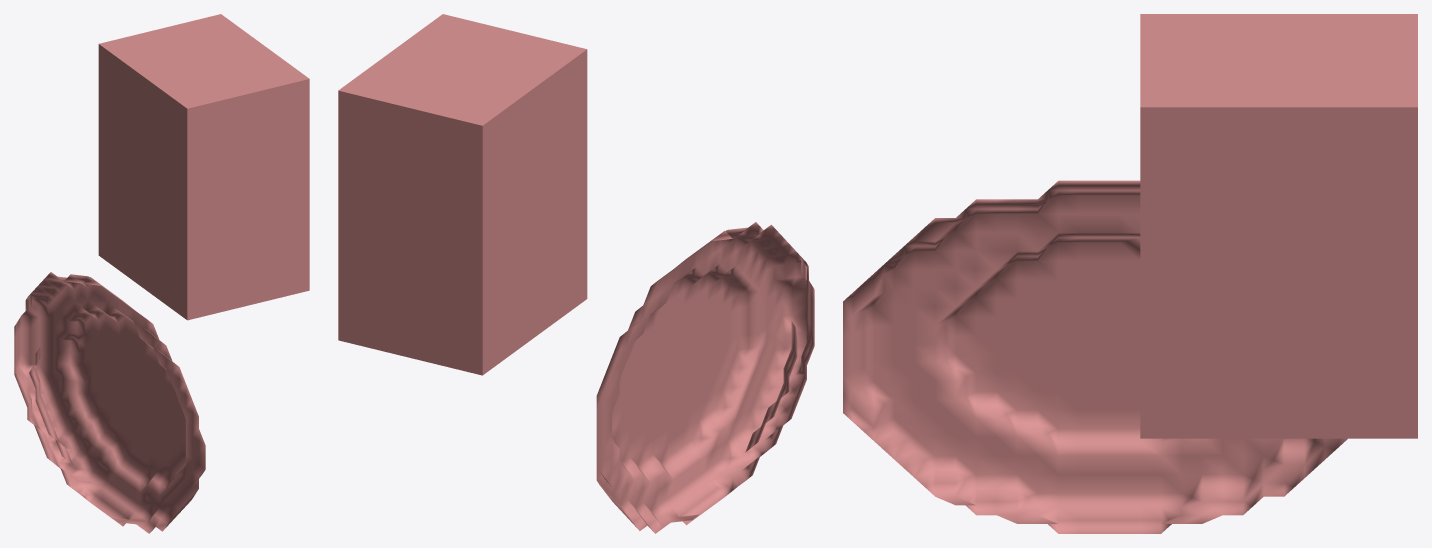
The model's file is 239534_occ.glb.
3 renders of one model, left to right at view 1: azimuth 30°, elevation 25°; view 2: azimuth 150°, elevation 25°; view 3: azimuth 270°, elevation 25°, orthographic. The views are drawn at different scales.
Parts seen in each view (by area): view 1: world; view 2: world; view 3: world.
Boxes of the visible parts, left/top/right/bottom form: world: left=14, top=14, right=309, bottom=533; world: left=338, top=14, right=814, bottom=533; world: left=843, top=14, right=1417, bottom=533.
Bounding box in the file's own units: 2.12 × 3.17 × 2.8.
